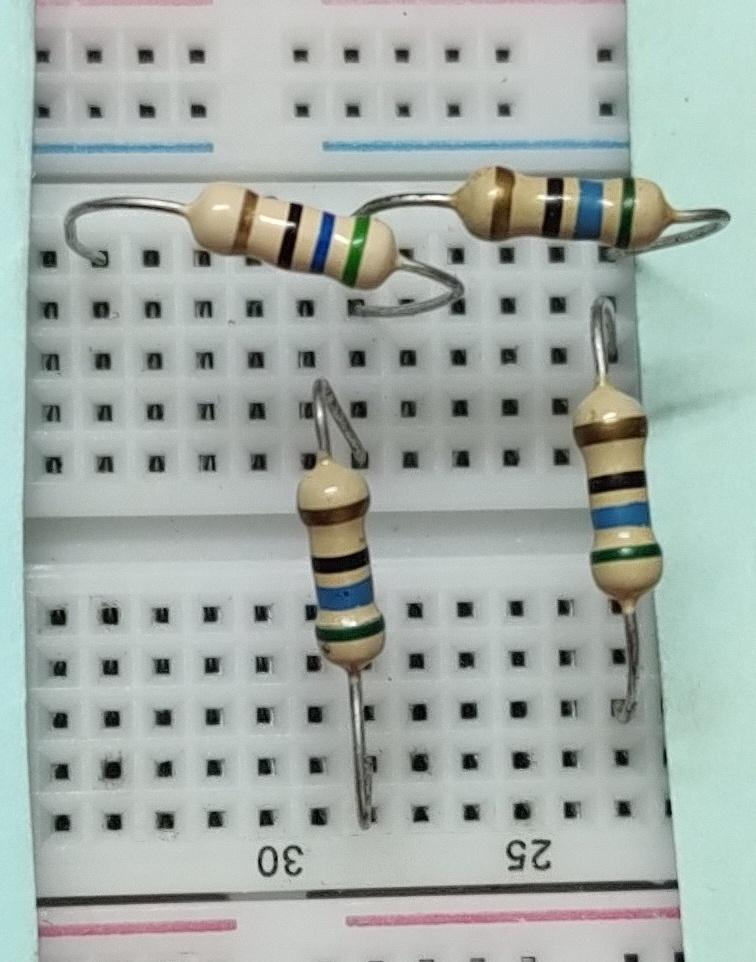resistor: (268, 432, 425, 680), (552, 370, 675, 632), (187, 170, 400, 312), (438, 152, 680, 268)
